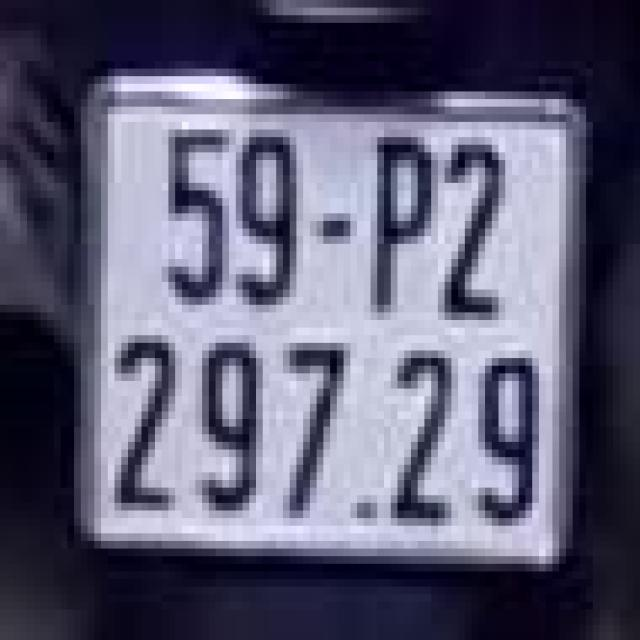2: (434, 122, 516, 328), (381, 336, 462, 534), (101, 324, 175, 514)
5: (152, 115, 232, 312)
7: (273, 335, 354, 526)
9: (196, 328, 270, 526), (236, 111, 303, 316), (472, 332, 539, 530)
P: (357, 122, 438, 320)
